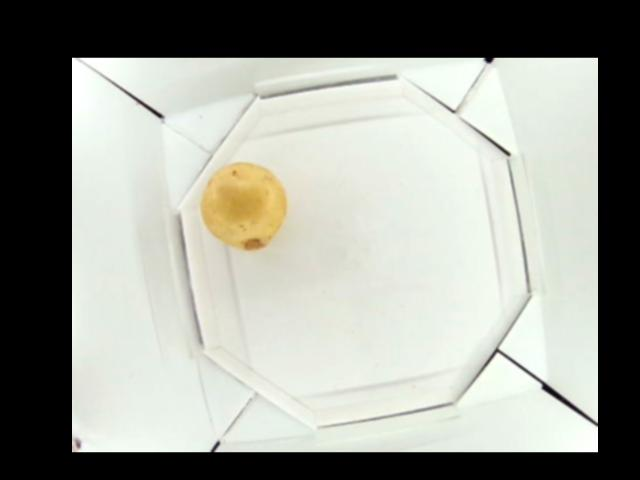Potato: (203, 165, 284, 252)
